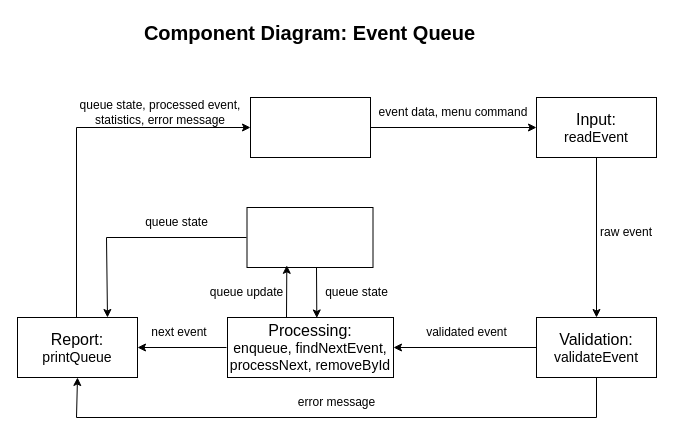
This 674x443 diagram has some shape labels left out. The centre of each missing label's shape, as x and y in pixels:
State: queue, eventCount: the point at 309,237
User: the point at 310,127
